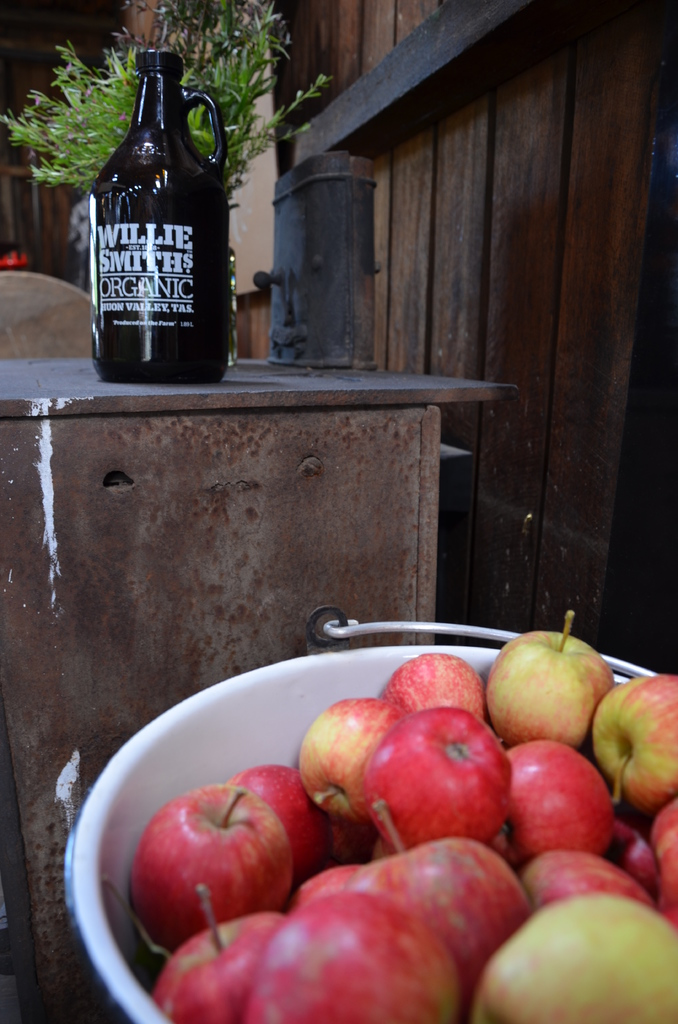Apple: (122, 602, 677, 1023), (243, 886, 465, 1023), (482, 634, 596, 768)
